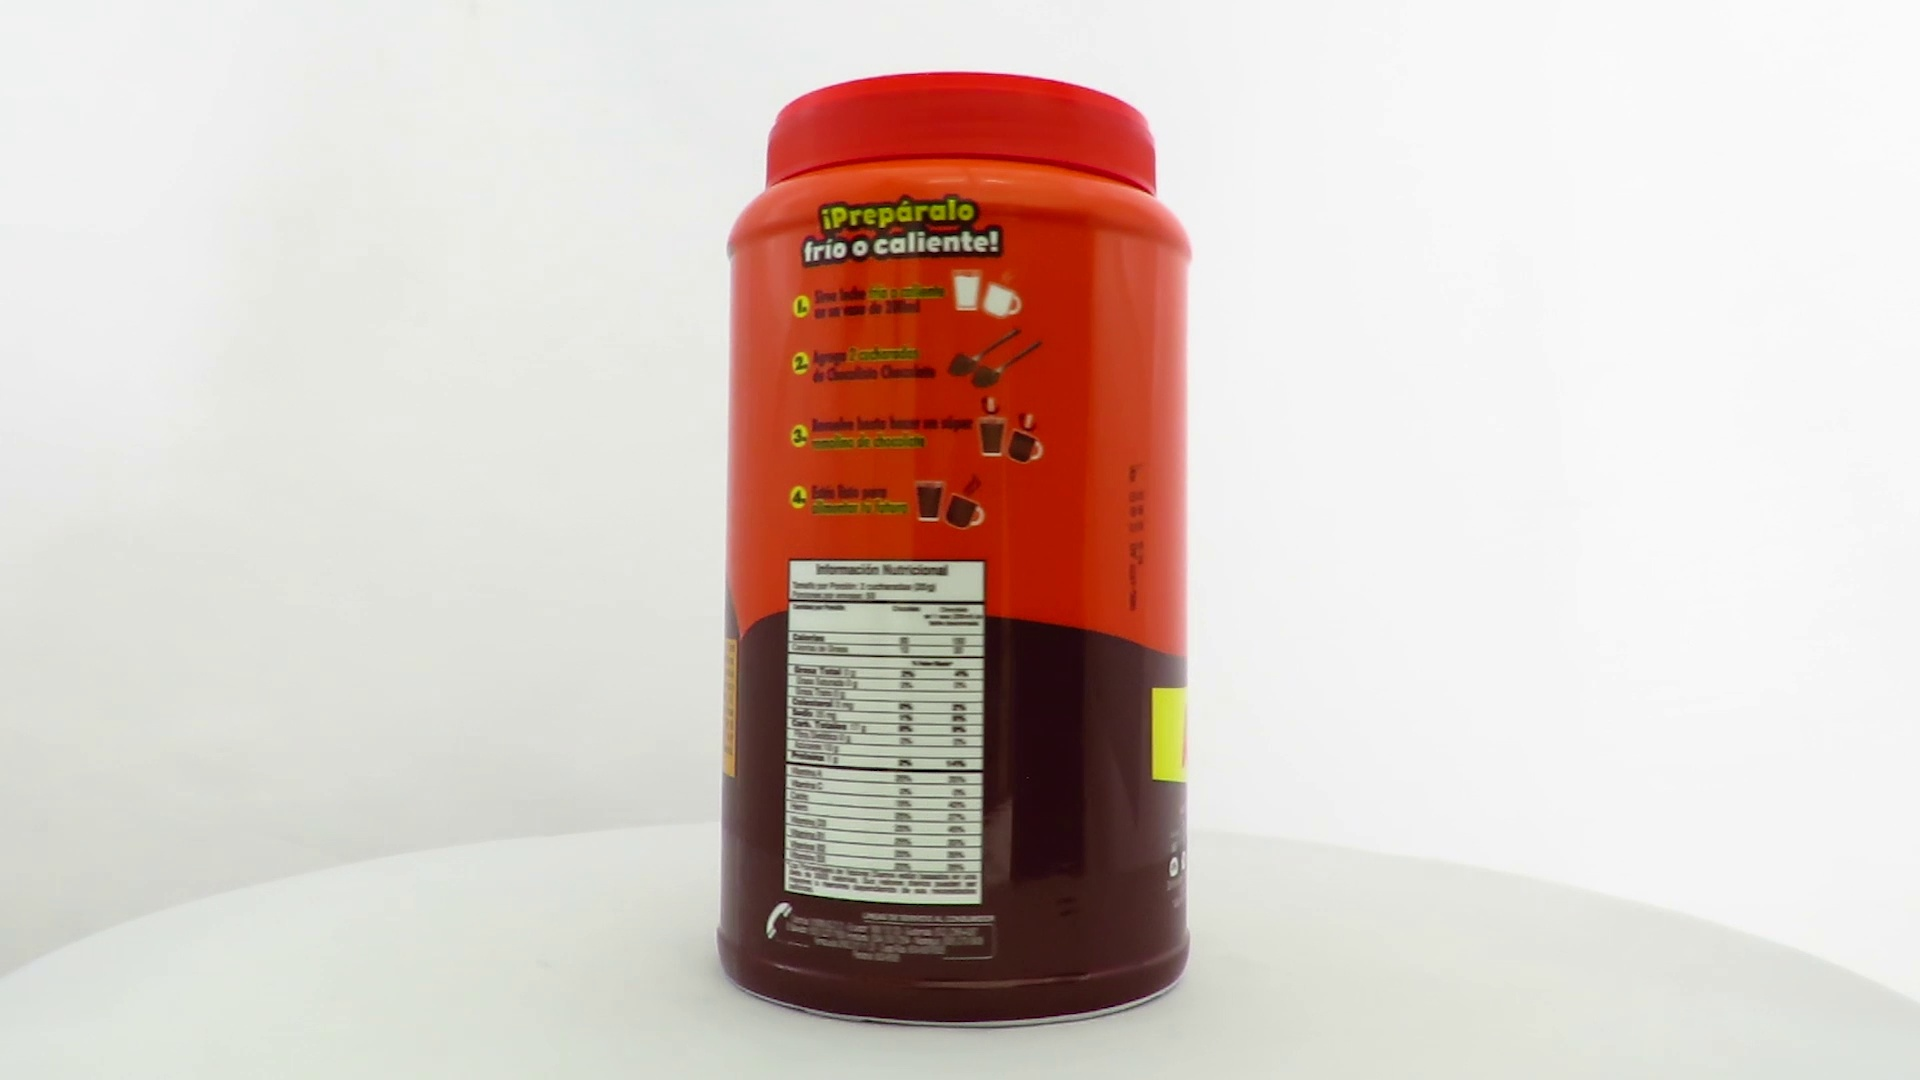COL0170103TRR00100: (711, 66, 1197, 1035)
